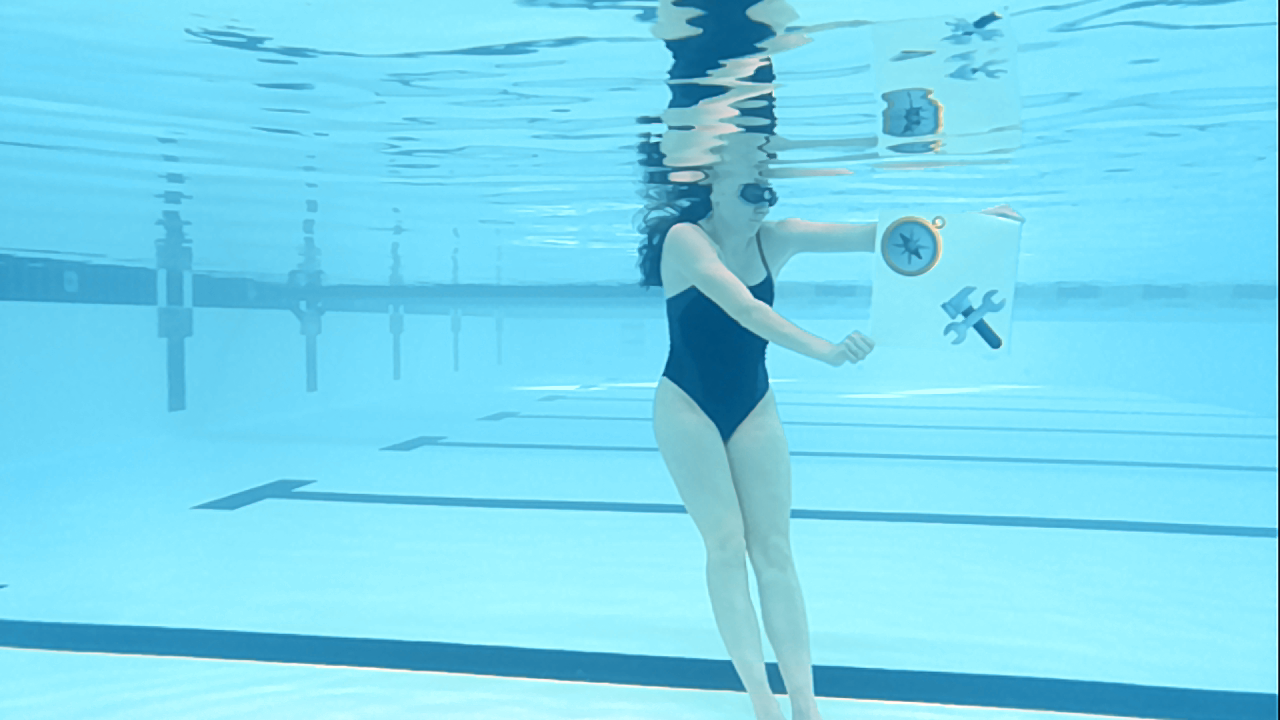compass_hammer: (877, 213, 1011, 355)
